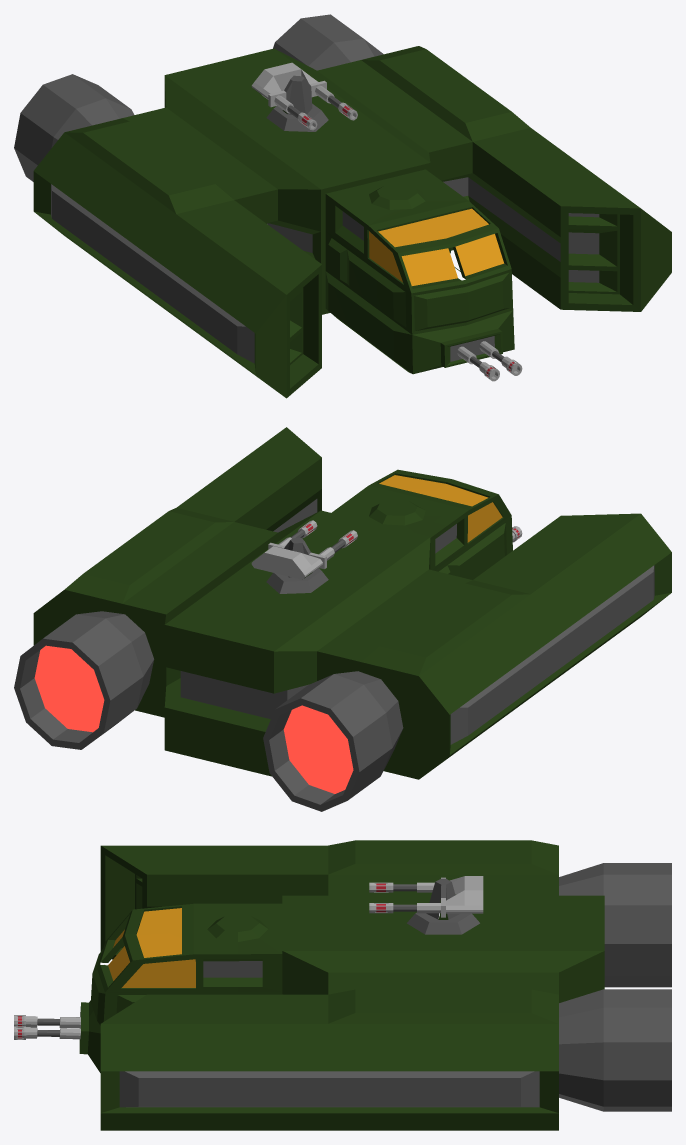
File: spship2.glb
3 views of the same model, one above another, from view 1: azimuth 30°, elevation 25°; view 2: azimuth 150°, elevation 25°; view 3: azimuth 270°, elevation 25° (orthographic). The views are drawn at different scales.
Size of the model in its own units: 0.5585 by 0.2133 by 0.7418.
